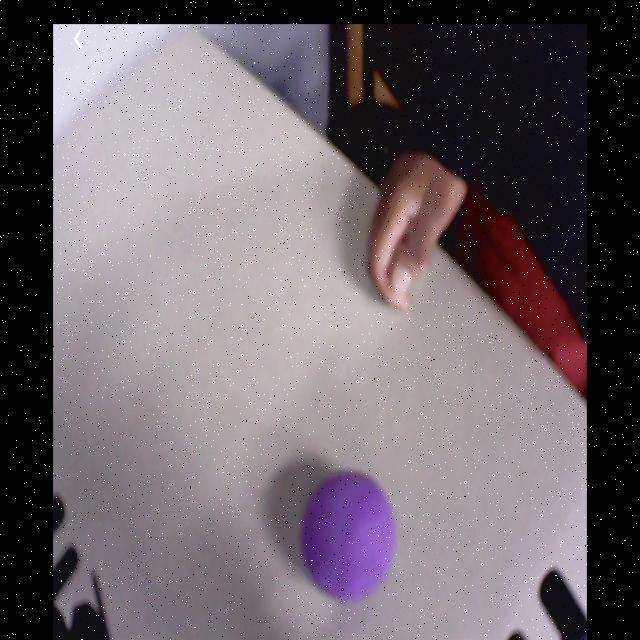ball: (302, 467, 396, 600)
